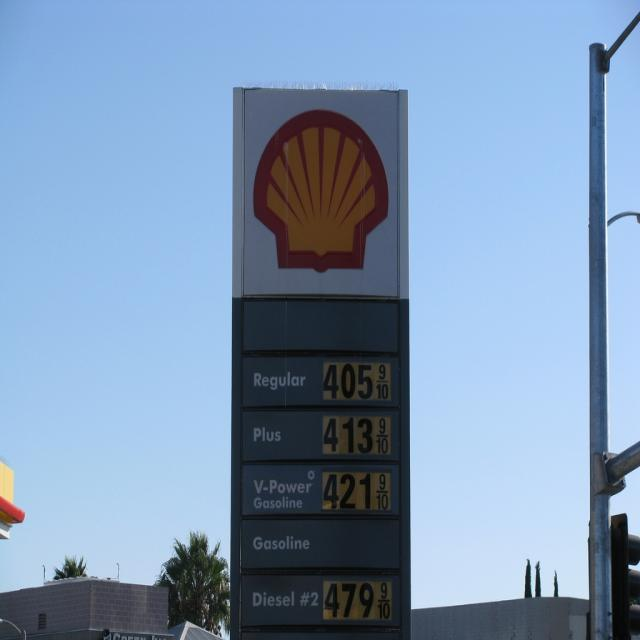shell: (253, 109, 392, 278)
